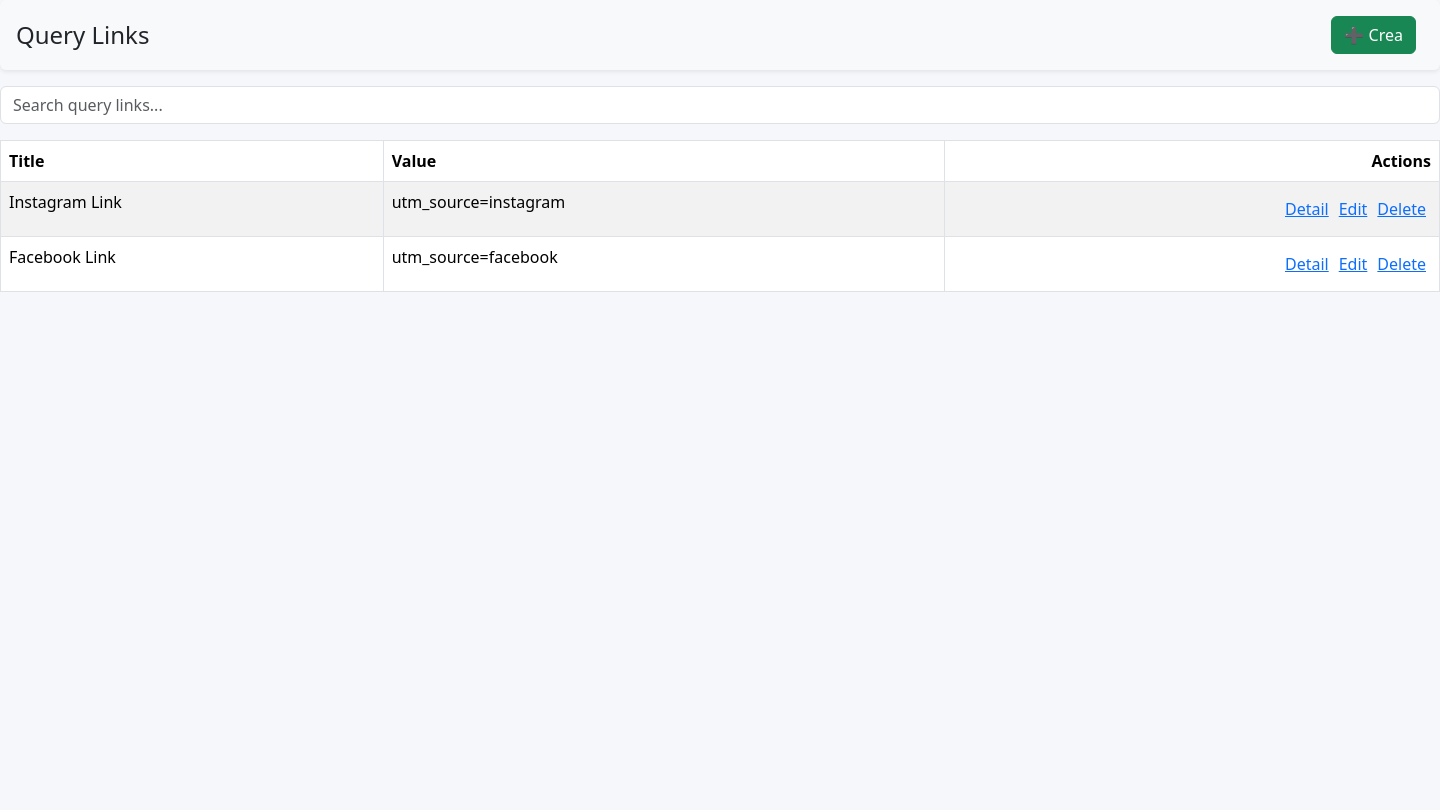
QueryLinks Index › opens the delete confirmation modal when Delete is clicked
Click the button "Delete" in the row of "Instagram Link".
click(1402, 209)  # box [1372,190,1431,228]
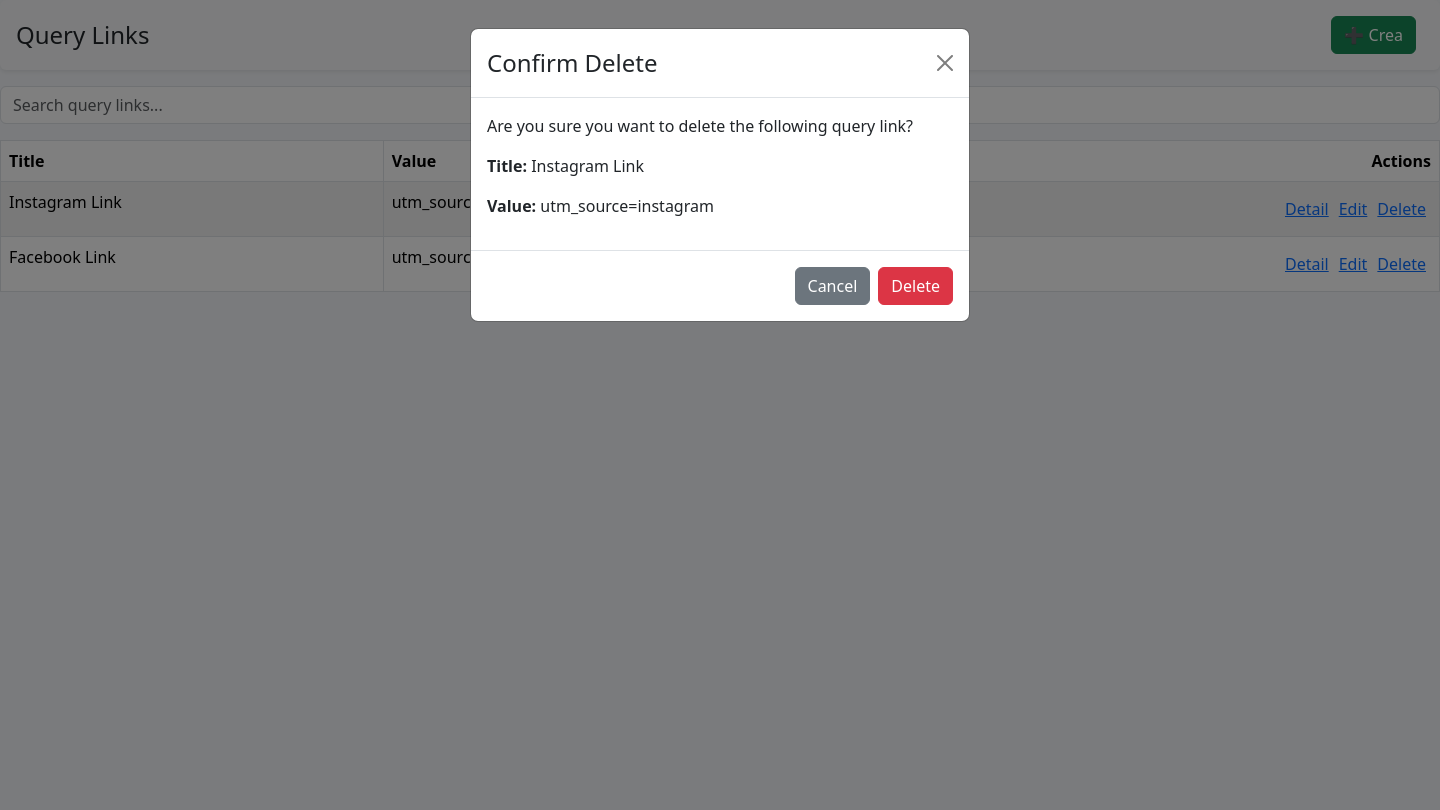
Expected: the text "Confirm Delete" is shown, [487,45,658,81]
